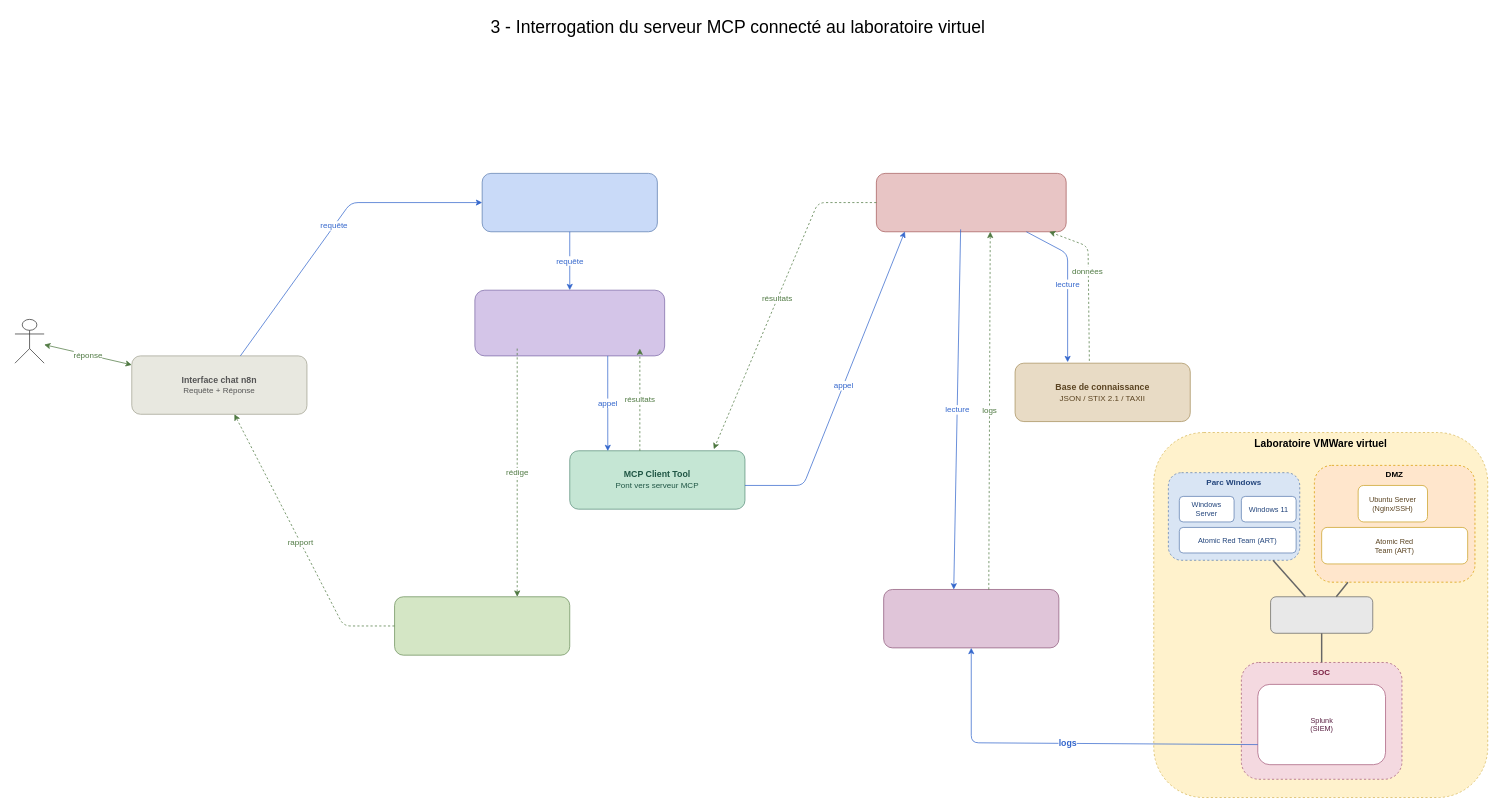
Some shapes in this 1501 by 810 pixel diagram are drawn without their labels. Here are the shapes that lost their labels. From the top down, the centre of each, then its label:
At point 569,202: "Chat Trigger Réception requête".
At point 971,202: "Serveur MCP MITRE Python — externe".
At point 29,341: "Analyste".
At point 569,322: "Agent LLM Claude / GPT-4o / Llama / Mistral".
At point 482,625: "Rédaction rapport Par l'Agent LLM".
At point 971,618: "Collecteur de logs Format OCSF".
At point 1321,614: "OPNsense Firewall/Router".
